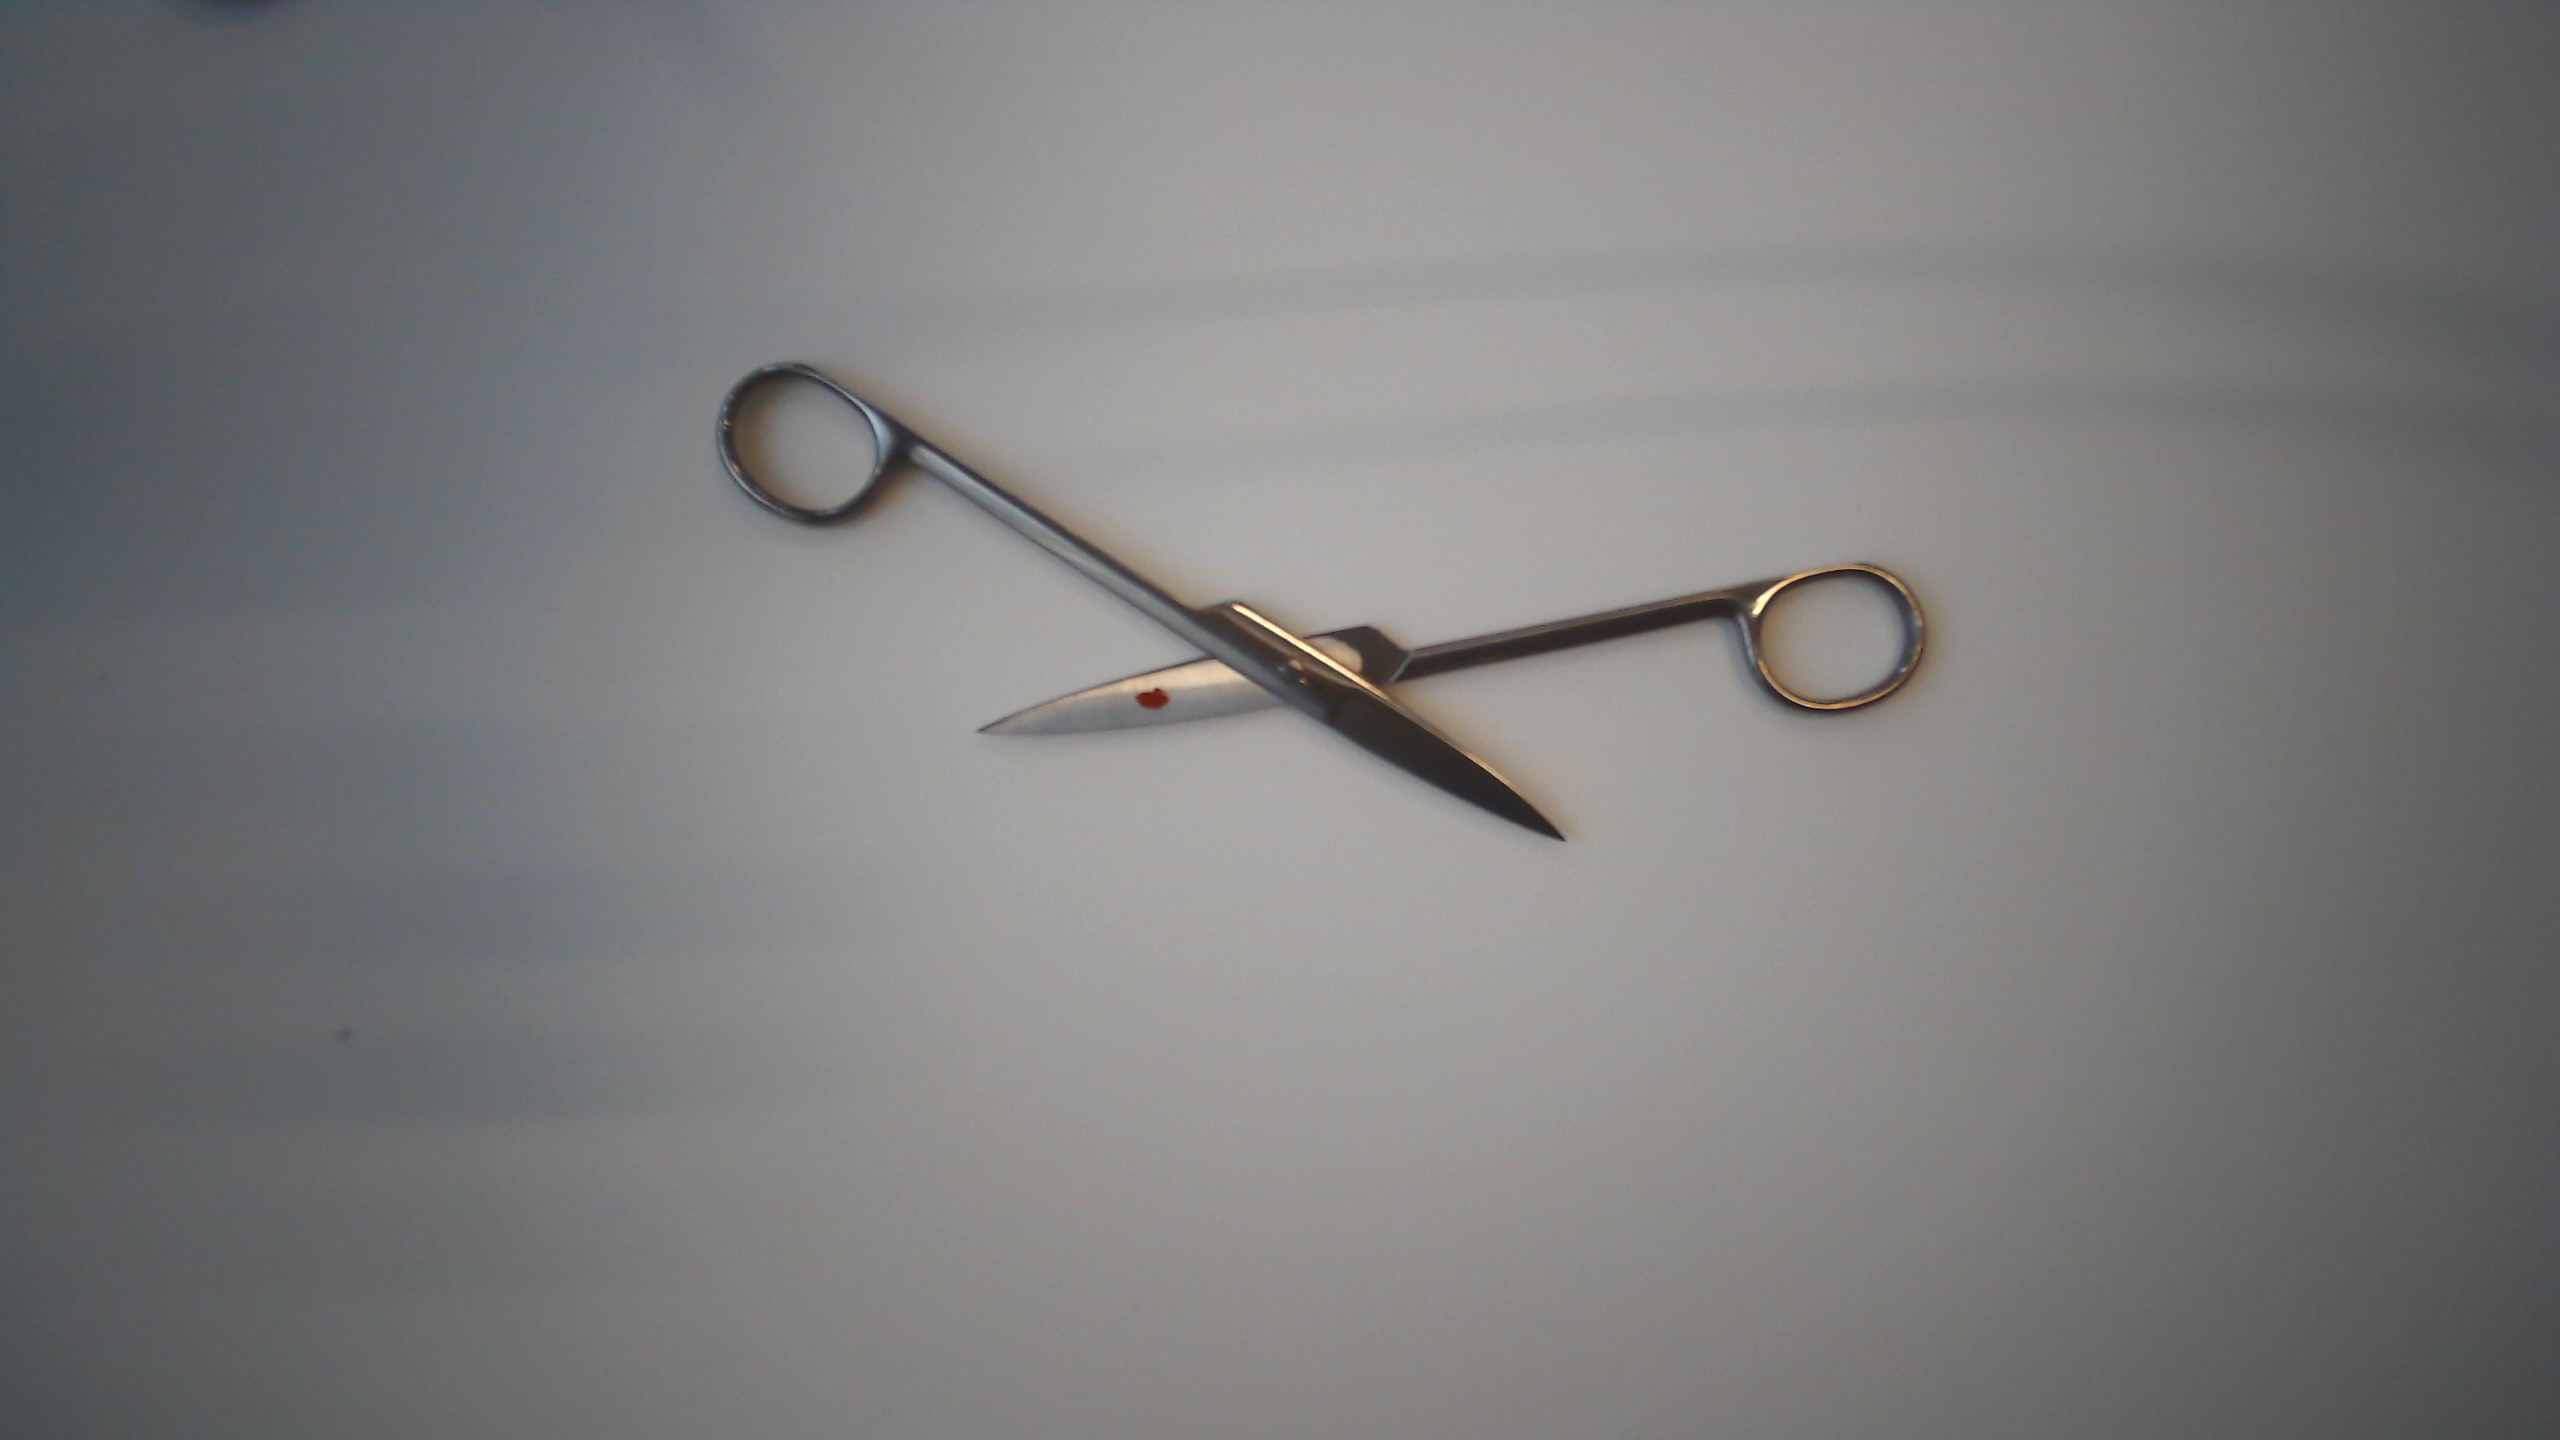Stain: (1124, 682, 1182, 717)
